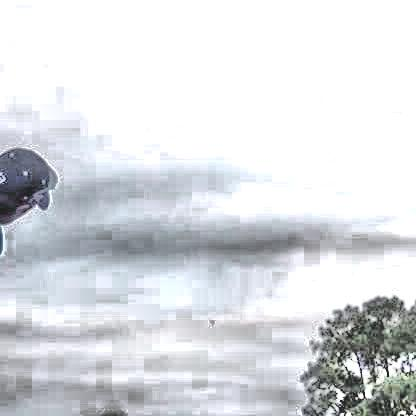golfball: (207, 314, 211, 320)
